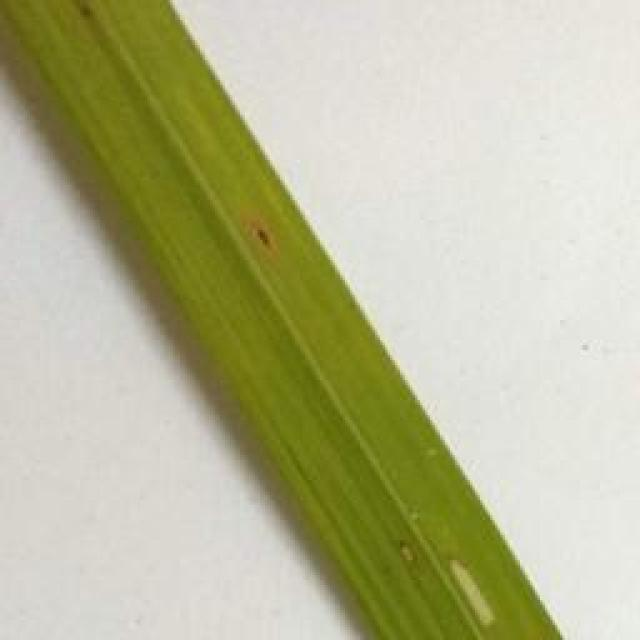Bacterial_Blight: (445, 529, 519, 640), (386, 524, 432, 581)
Brown_Spot: (235, 203, 291, 271), (68, 8, 112, 27)
